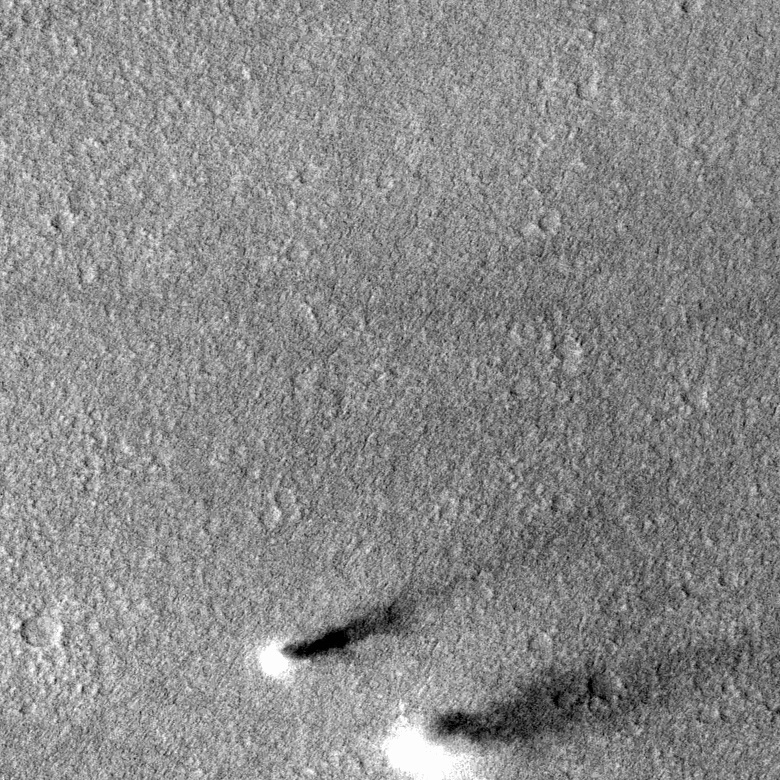dust_devil: (378, 637, 759, 780), (255, 591, 423, 682)
